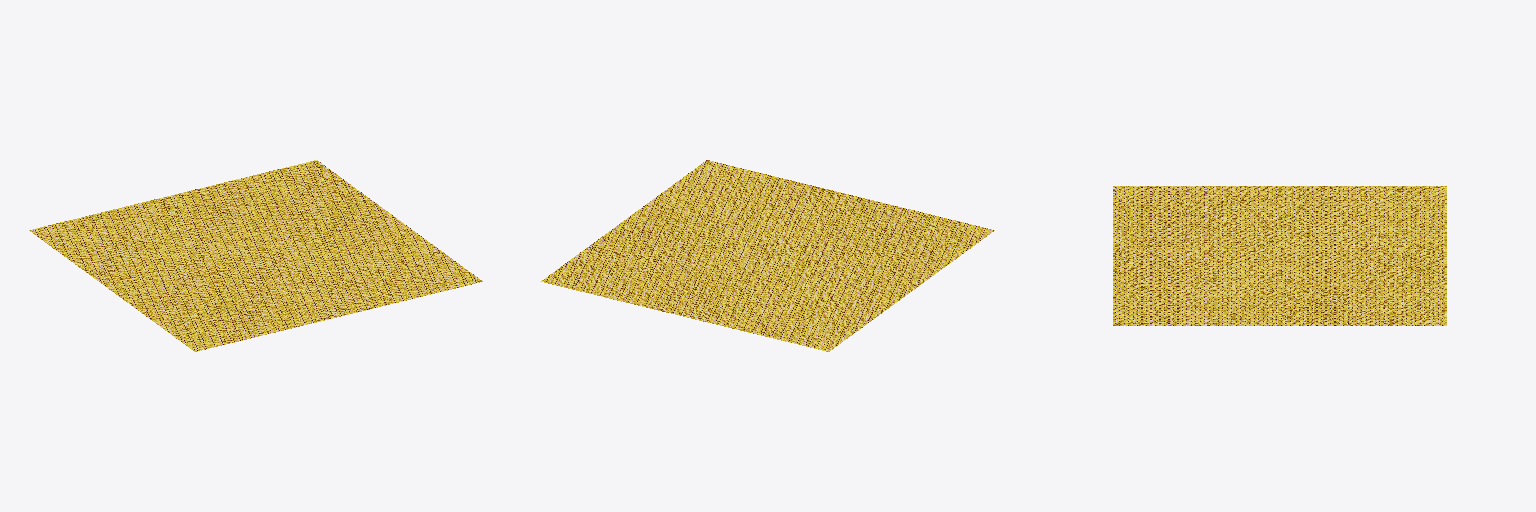
3 renders of one model, left to right at view 1: azimuth 30°, elevation 25°; view 2: azimuth 150°, elevation 25°; view 3: azimuth 270°, elevation 25°, orthographic.
Visible parts, largest first — view 1: Mesh1_Model; view 2: Mesh1_Model; view 3: Mesh1_Model.
Part boxes in pixels (x1,y1,x2,y2): Mesh1_Model: (29,160,482,351); Mesh1_Model: (541,160,994,351); Mesh1_Model: (1113,186,1446,325).
Size of the model in its own units: 1 by 0 by 1.
1 materials, 1 textured.